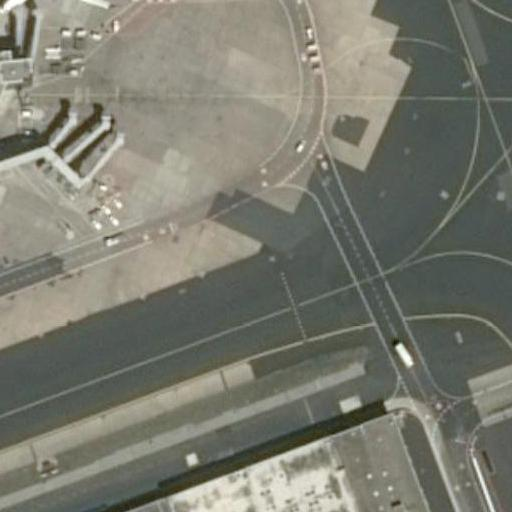Aircraft: (0, 0, 132, 21)
